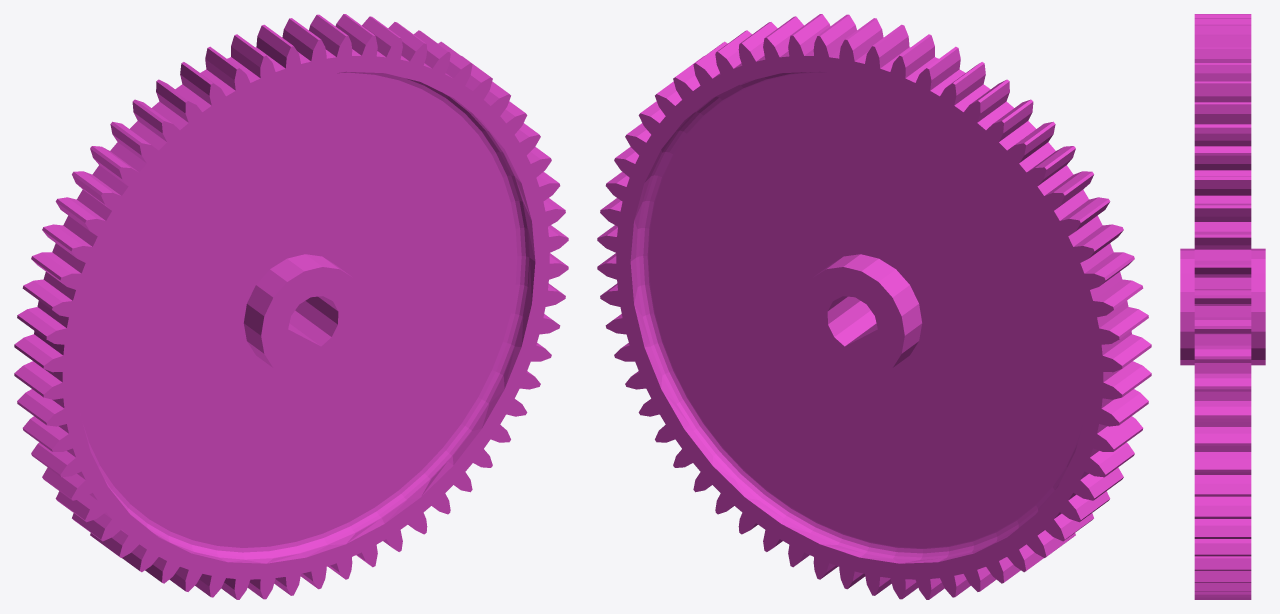
File: 60T_gear_v1.dae
The picture shows the model from 3 angles, left to right: view 1: azimuth 30°, elevation 25°; view 2: azimuth 150°, elevation 25°; view 3: azimuth 270°, elevation 25°; orthographic projection. The views are drawn at different scales.
Parts seen in each view (by area): view 1: _0T_gear; view 2: _0T_gear; view 3: _0T_gear.
Part boxes in pixels (x1=…): _0T_gear: x1=14, y1=14, x2=568, y2=599; _0T_gear: x1=597, y1=14, x2=1151, y2=599; _0T_gear: x1=1180, y1=14, x2=1265, y2=599.
Bounding box in the file's own units: 0.0655 × 0.00952 × 0.0655.
